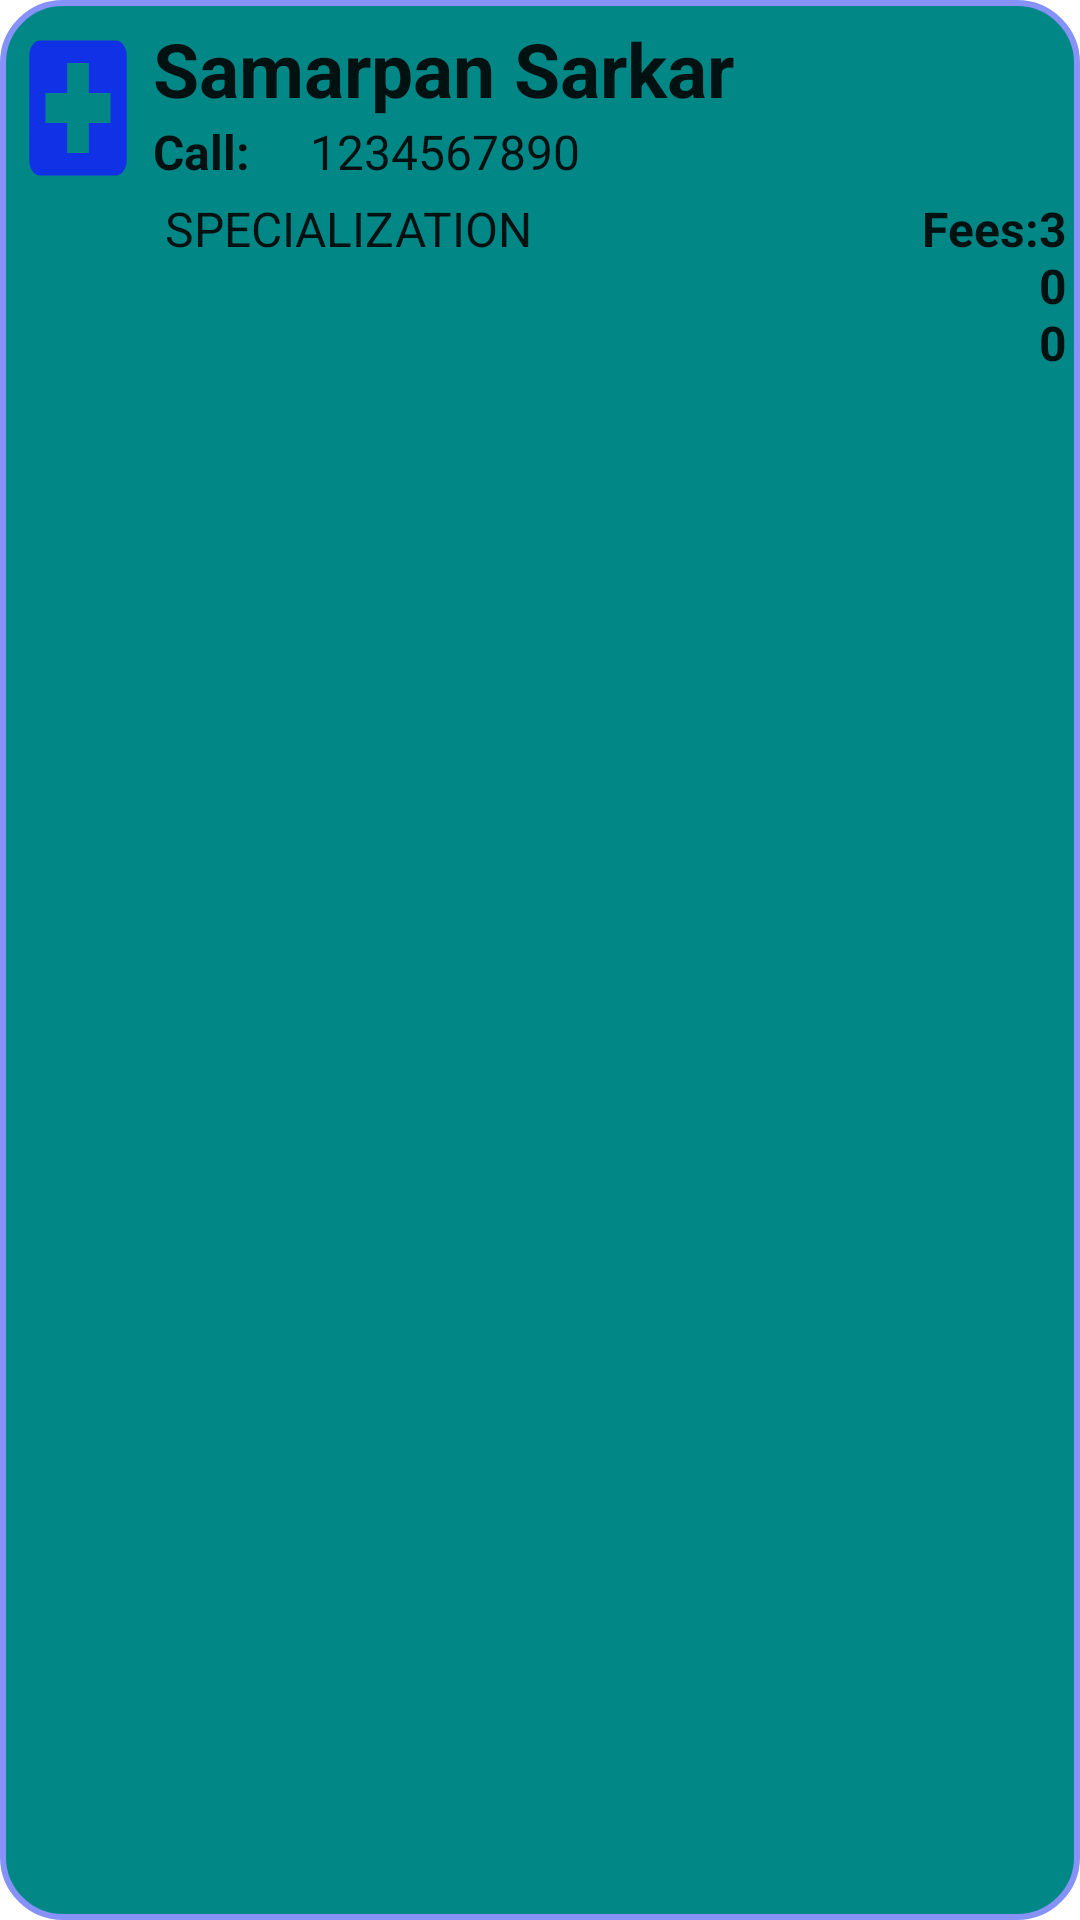

Named icons in this screenshot (1080px x 1920px) and their bounding boxes, (x1,y1,x2,y2):
local hospital: (29,40,127,176)
